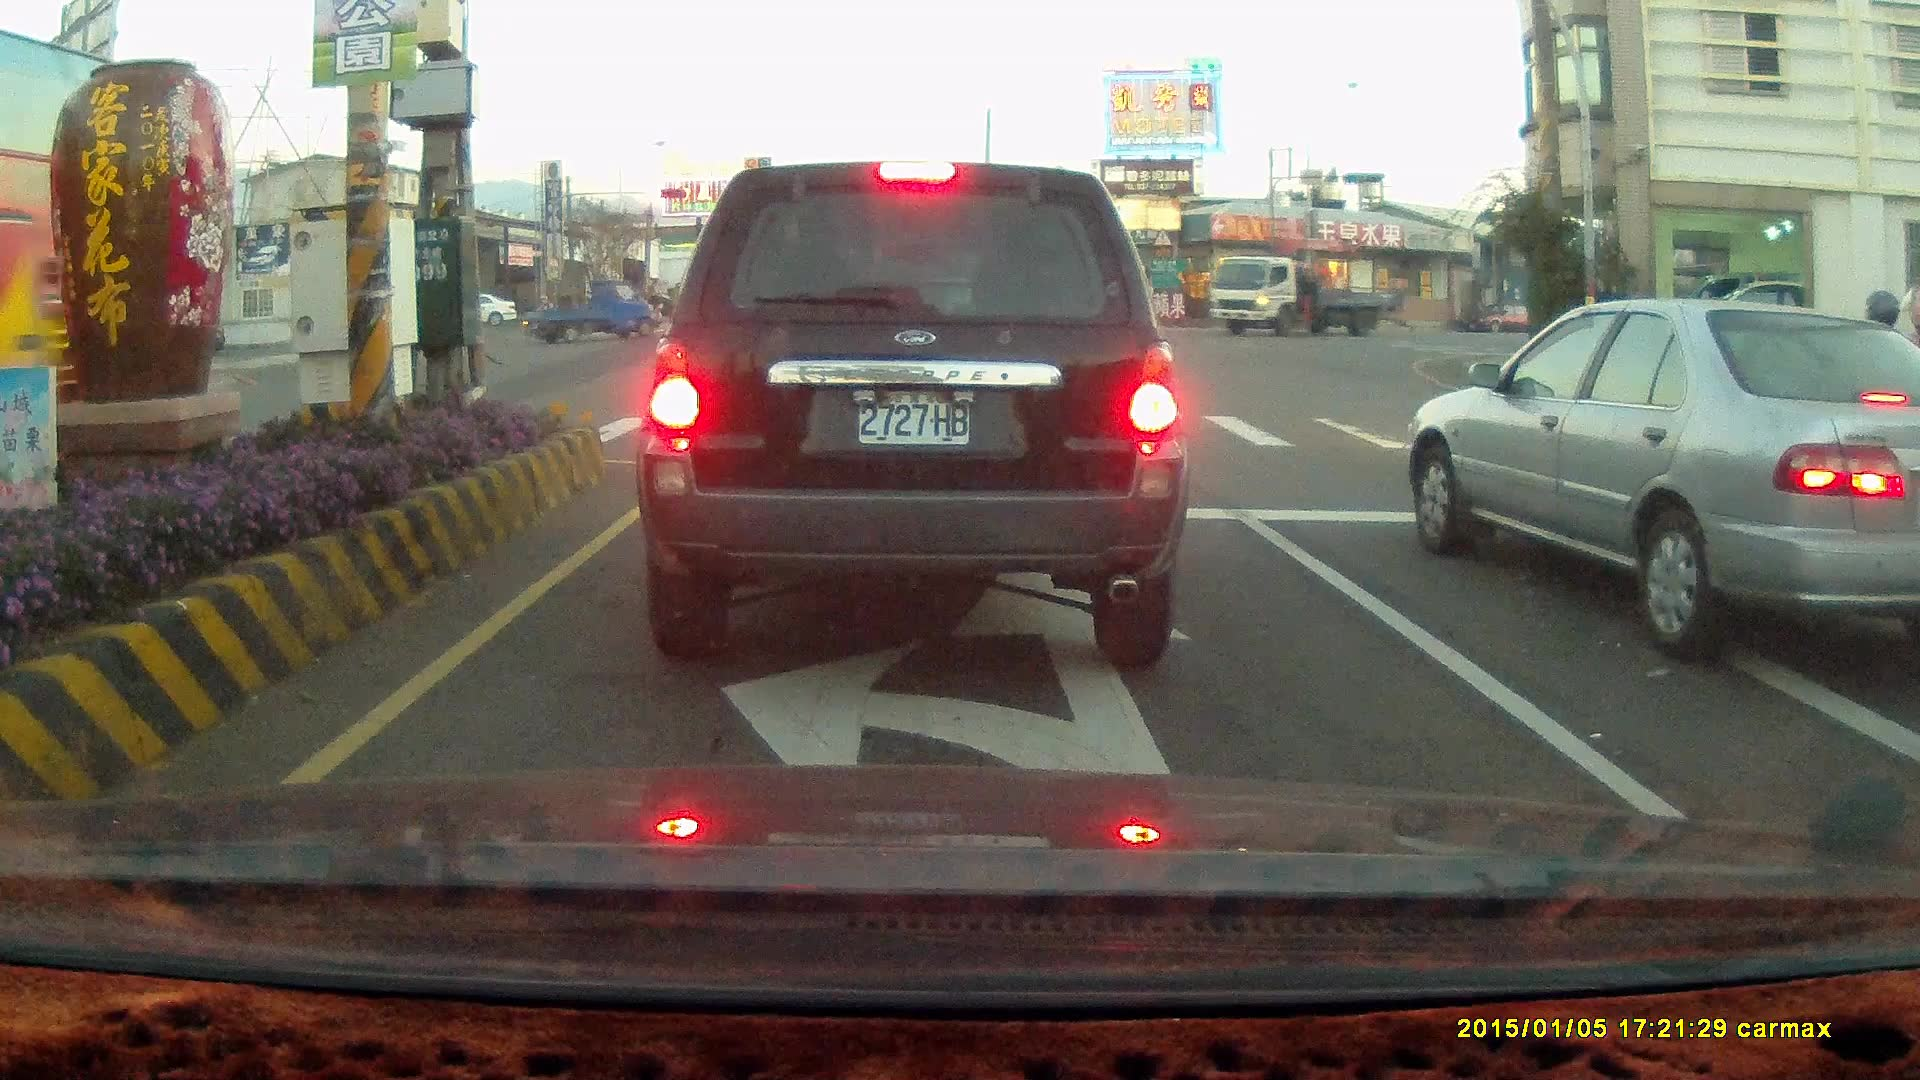vehicle: (632, 157, 1189, 673), (1396, 295, 1920, 657), (1412, 301, 1920, 658), (735, 255, 947, 344), (1208, 255, 1404, 343), (1650, 276, 1796, 363), (895, 278, 1021, 361), (520, 276, 654, 344), (1896, 493, 1920, 836)
